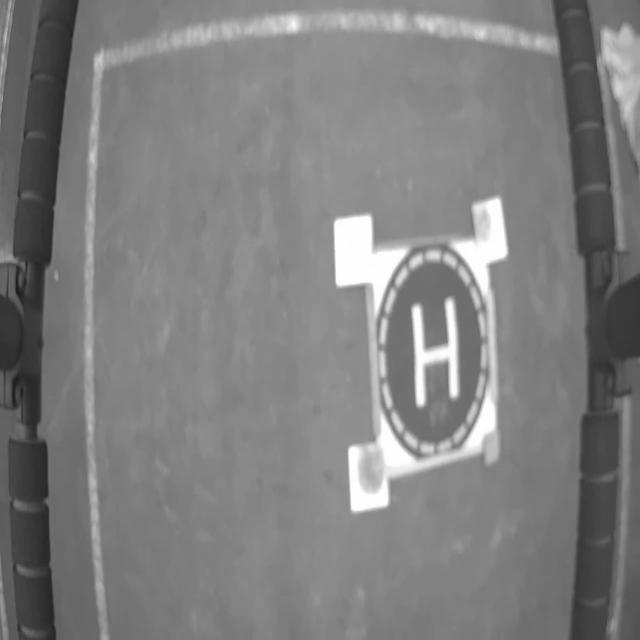Helipad: (410, 295, 460, 407)
